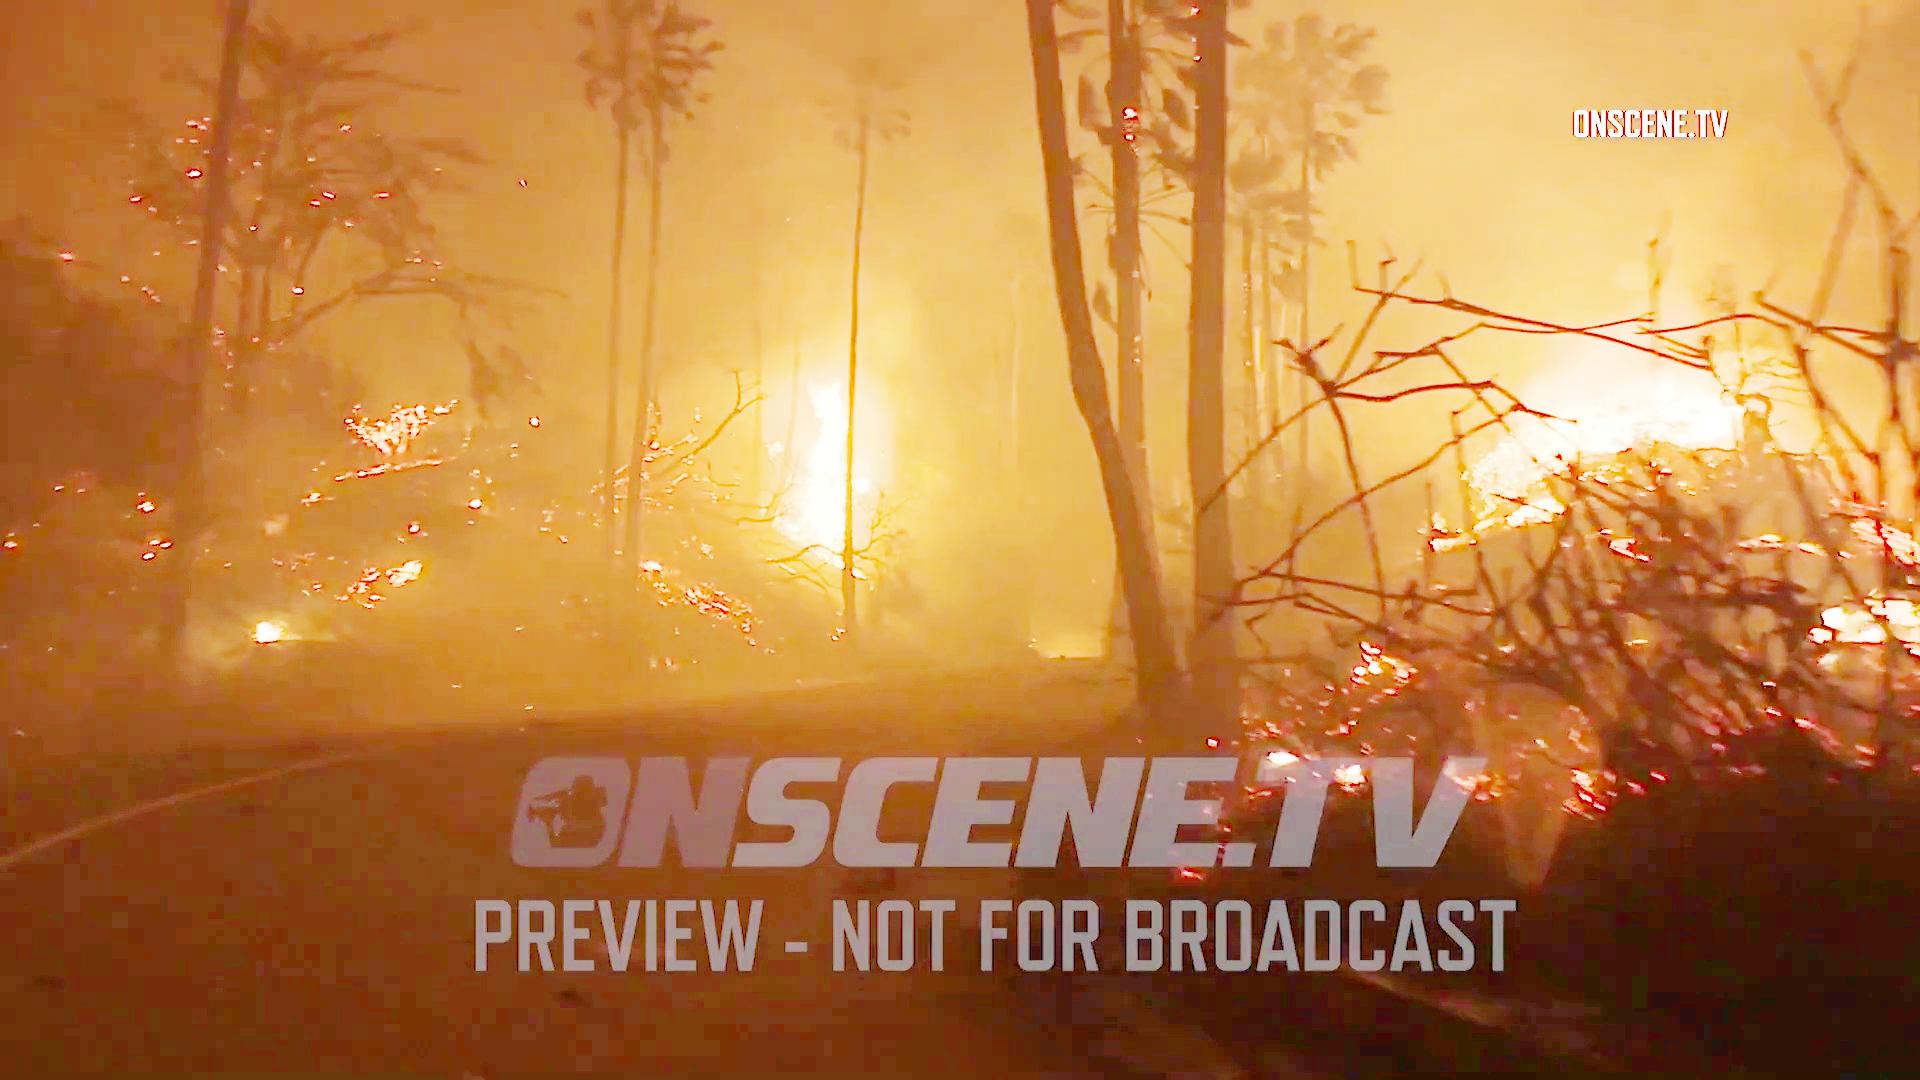fire: (1506, 360, 1735, 472), (783, 371, 899, 580)
